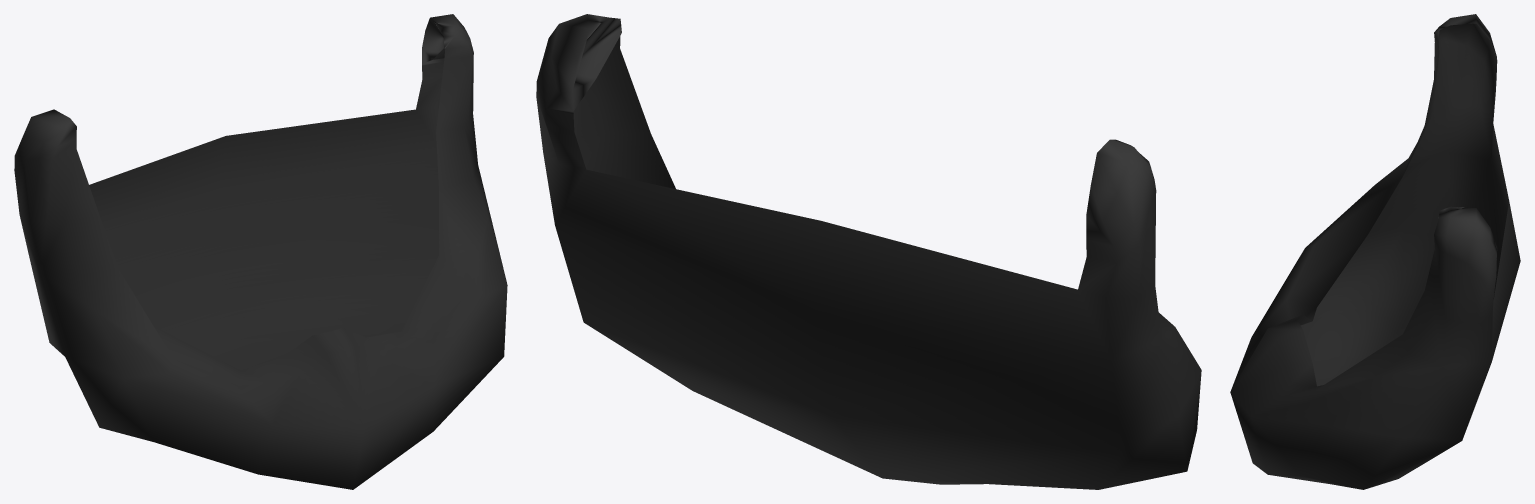
File: Mustache_18.fbx
3 renders of one model, left to right at view 1: azimuth 30°, elevation 25°; view 2: azimuth 150°, elevation 25°; view 3: azimuth 270°, elevation 25°, orthographic. The views are drawn at different scales.
Visible parts, largest first — view 1: Mustache_18; view 2: Mustache_18; view 3: Mustache_18.
Part boxes in pixels (x1,y1,x2,y2): Mustache_18: [14, 14, 507, 489]; Mustache_18: [536, 14, 1201, 489]; Mustache_18: [1230, 14, 1520, 489].
Size of the model in its own units: 52.51 by 38.74 by 29.34.
